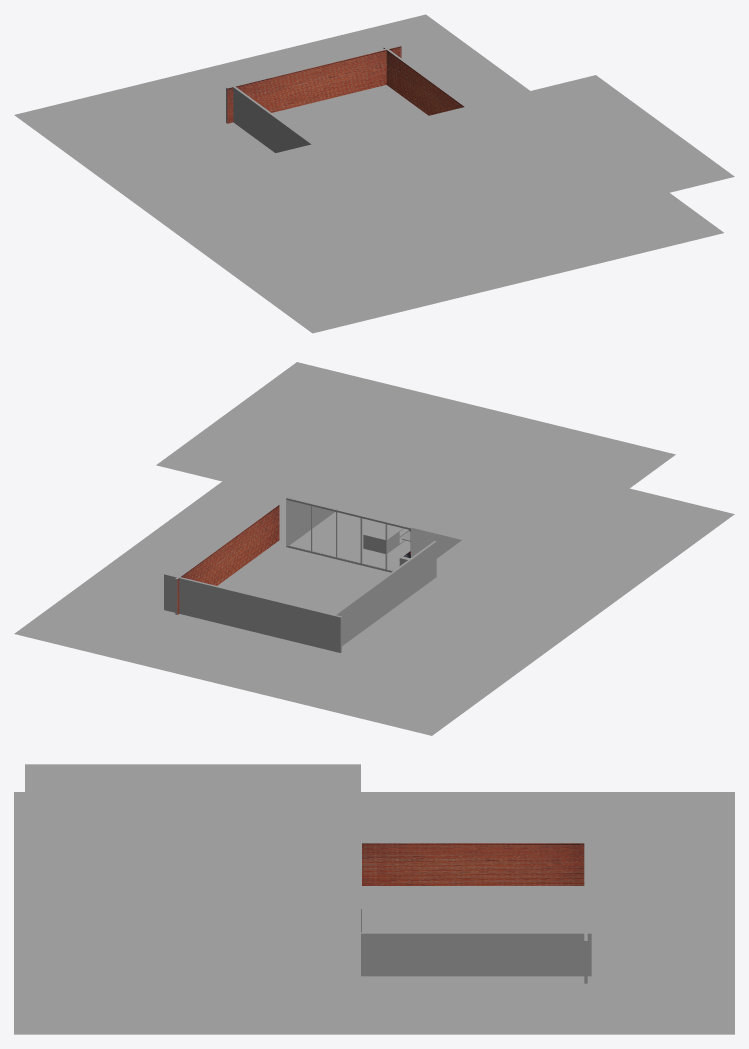
Rendered from MiddleKitschen.fbx.
3 renders of one model, top to bottom at view 1: azimuth 30°, elevation 25°; view 2: azimuth 150°, elevation 25°; view 3: azimuth 270°, elevation 25°, orthographic. The views are drawn at different scales.
Visible parts, largest first — view 1: pCube10; view 2: pCube10; view 3: pCube10.
Part boxes in pixels (left/top/right/bottom): pCube10: left=14, top=14, right=734, bottom=333; pCube10: left=14, top=362, right=734, bottom=735; pCube10: left=14, top=764, right=734, bottom=1034.
Bounding box in the file's own units: 1434 × 173 × 1737.
